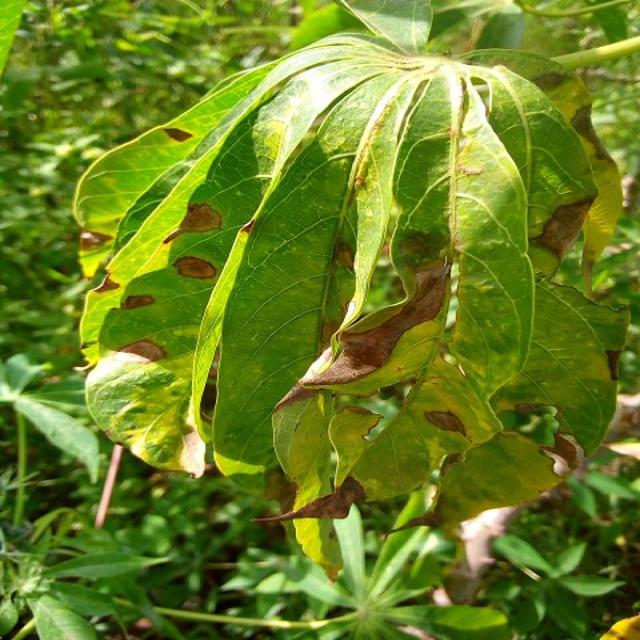cassava leaf: (72, 22, 627, 580)
